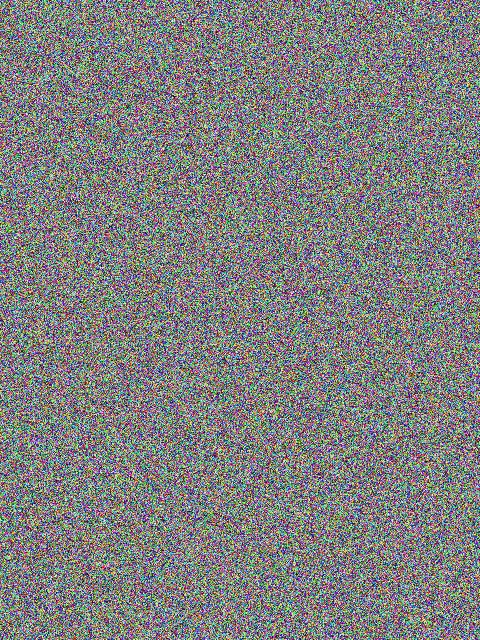bus: (332, 118, 429, 261)
